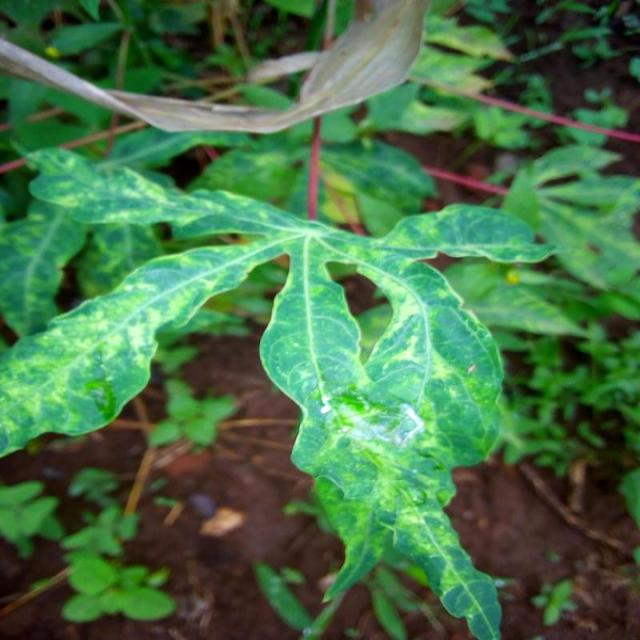cassava leaf: (1, 142, 546, 638)
